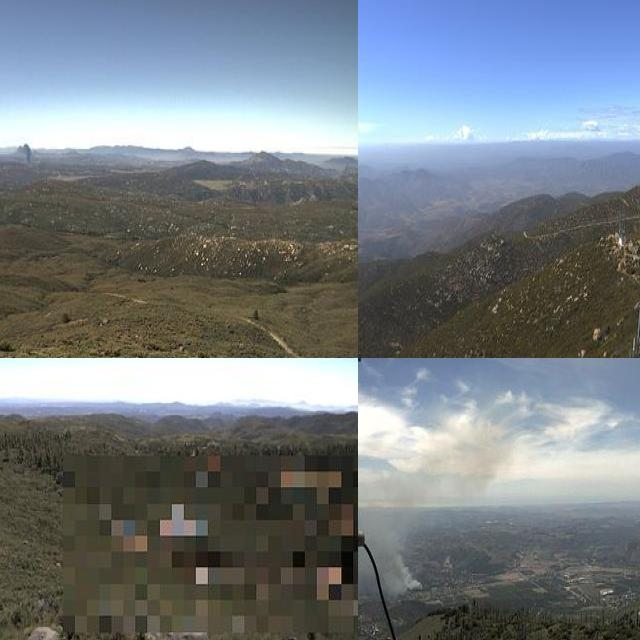smoke: (358, 416, 506, 601), (14, 138, 36, 168)
